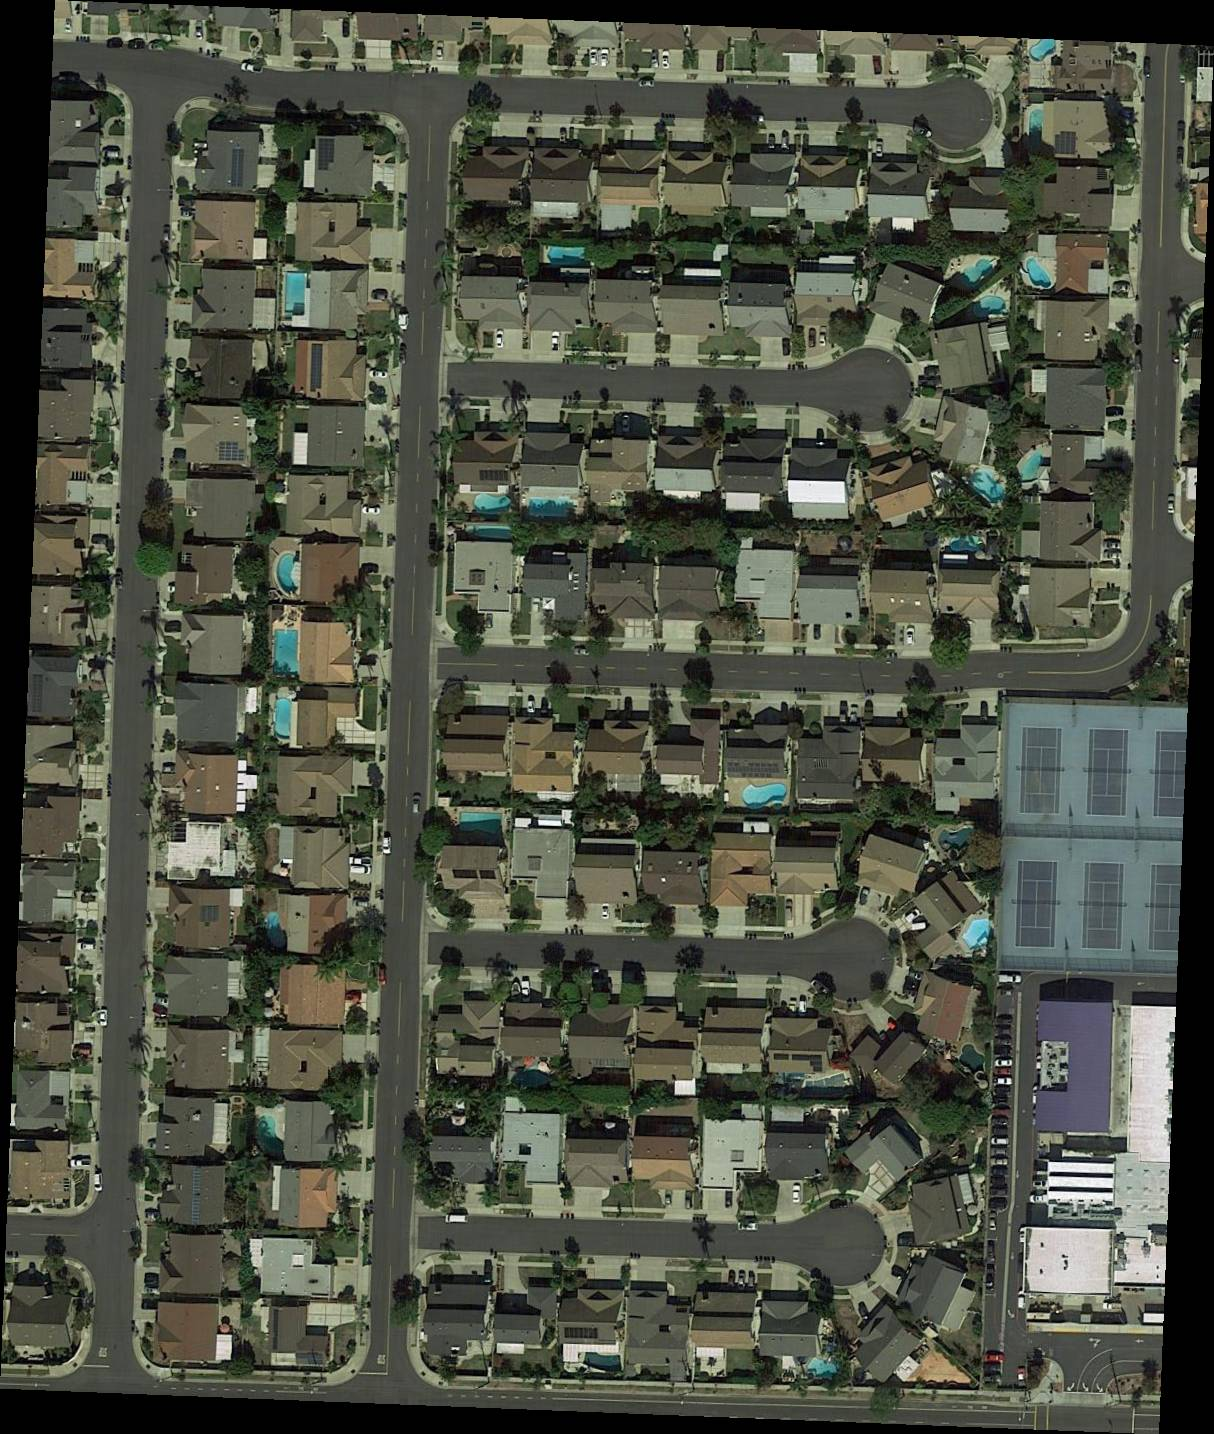swimming pool: (972, 467, 1007, 508), (741, 781, 790, 810), (798, 1075, 848, 1102), (257, 1115, 285, 1159), (959, 1039, 988, 1082), (275, 630, 299, 679), (275, 551, 300, 598), (938, 825, 976, 852), (512, 1066, 554, 1090), (962, 917, 991, 952), (460, 813, 503, 836), (529, 497, 577, 518), (579, 1352, 624, 1374), (1025, 256, 1054, 289), (960, 256, 994, 284), (287, 271, 307, 315), (466, 523, 513, 542), (1019, 450, 1042, 486), (472, 494, 512, 514), (809, 1357, 839, 1382), (266, 911, 285, 950), (275, 698, 291, 742), (546, 247, 585, 265), (1027, 39, 1059, 61), (949, 535, 984, 555), (976, 294, 1006, 315), (1029, 108, 1045, 140)
tennis court: (1086, 728, 1130, 818), (1084, 862, 1125, 951), (1023, 727, 1062, 815), (1019, 860, 1057, 949), (1151, 864, 1180, 954), (1156, 732, 1185, 818)
